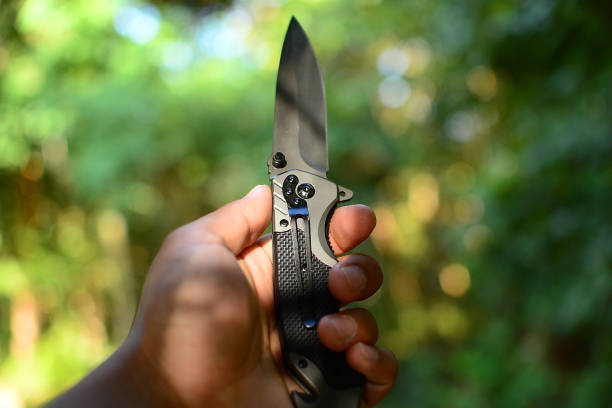knife: (265, 13, 369, 408)
